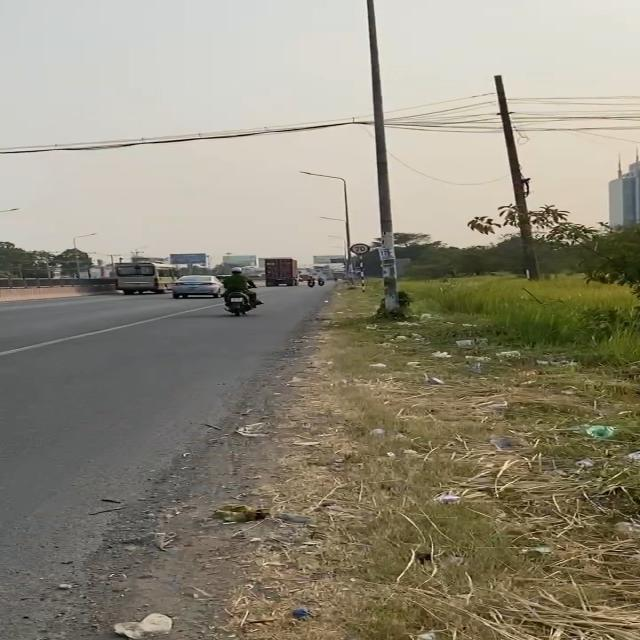127-toc-do-toi-da-70: (350, 242, 370, 254)
